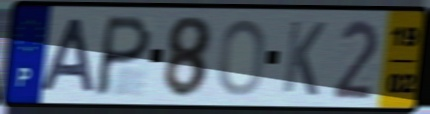2: (331, 16, 382, 102)
8: (161, 13, 215, 100)
A: (37, 16, 97, 94)
K: (279, 18, 328, 99)
O: (216, 17, 268, 99)
P: (90, 13, 155, 100)
